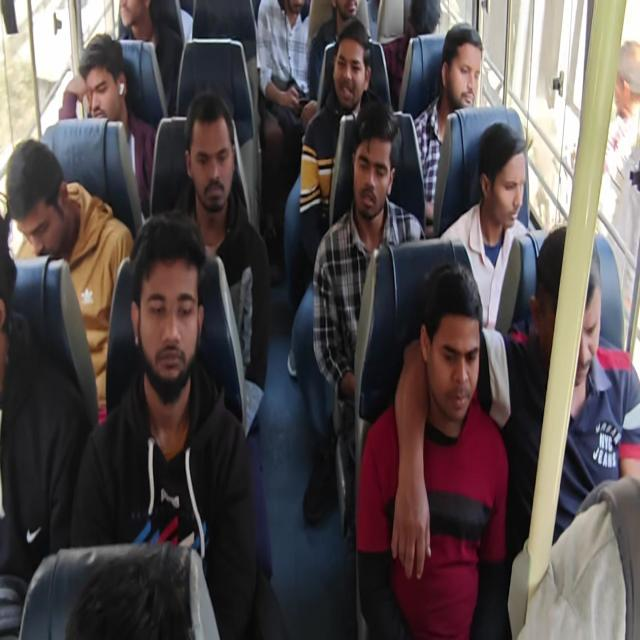person: (546, 240, 610, 401), (4, 150, 90, 260), (135, 238, 196, 392), (421, 293, 487, 423), (347, 120, 405, 223), (476, 126, 527, 236), (186, 119, 238, 214), (76, 42, 126, 127), (445, 30, 483, 120), (333, 36, 368, 120), (402, 0, 440, 49), (110, 0, 151, 32), (326, 0, 366, 32), (280, 0, 310, 28)
